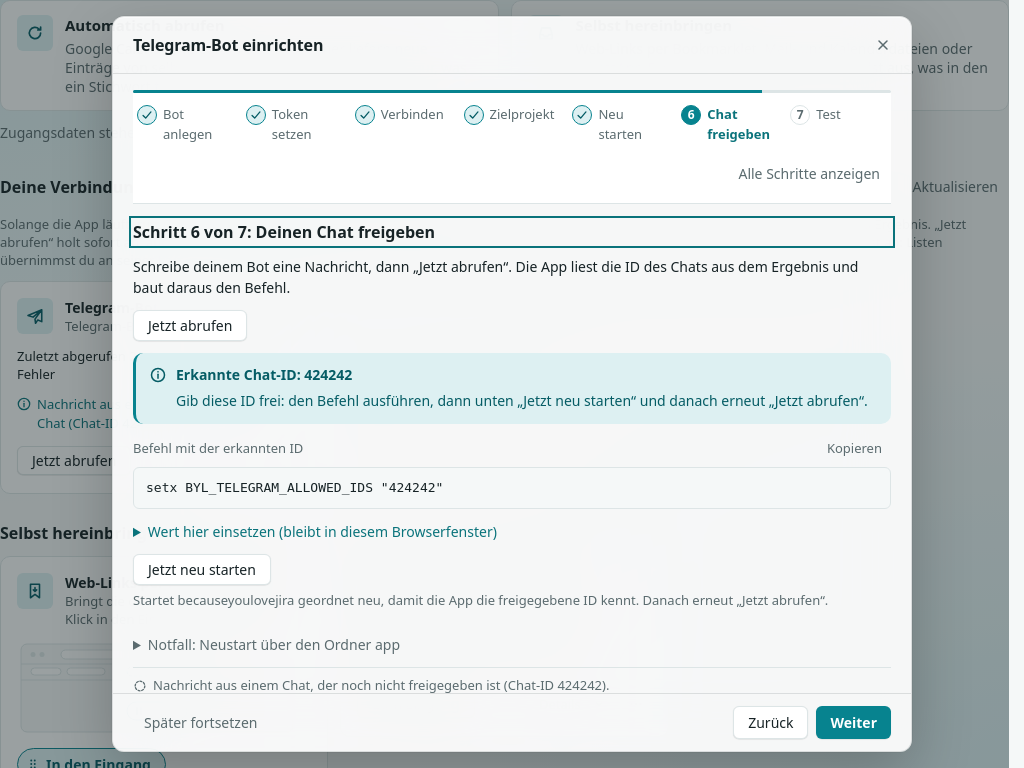
Scenario: Telegram assistant (EH-6) › knows no foreign chat after the next run, through realtime
Expected: the heading "Schritt 6 von 7: Deinen Chat freigeben" is shown, 133,221 -> 435,243
Click the button named "Chat freigeben, aktuell" at (730, 124), box 677,101 -> 782,148
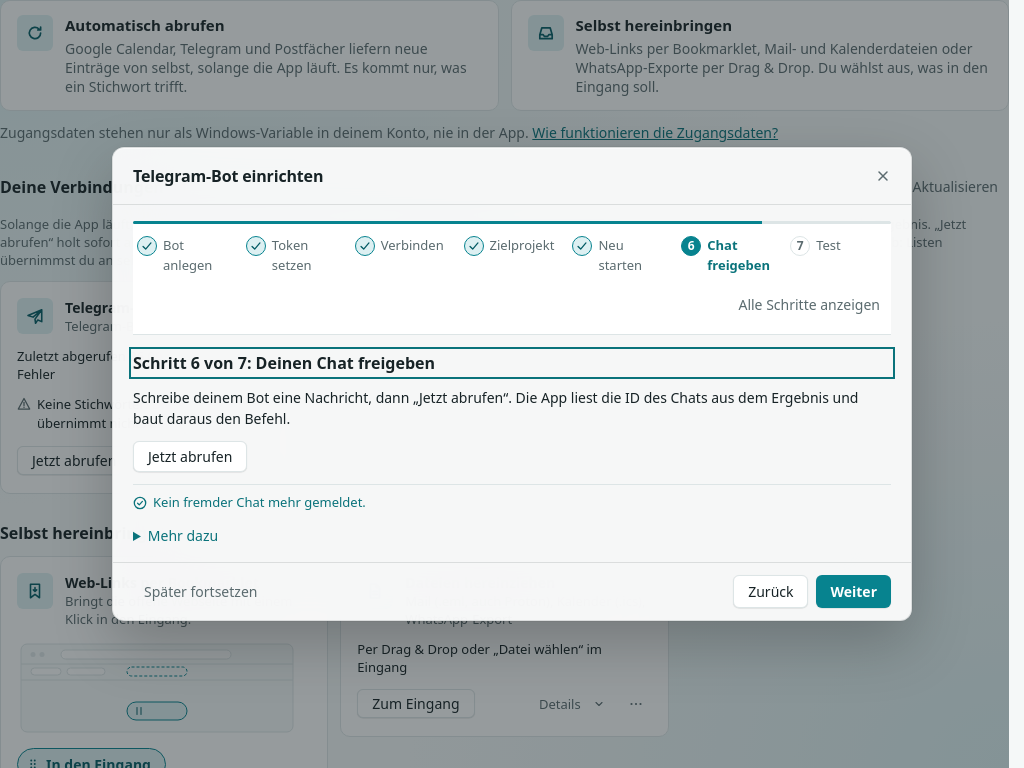
Expected: the button named "Chat freigeben, aktuell" is shown, 677,232 -> 782,279
Expected: the text "Kein fremder Chat mehr gemeldet." is shown, 153,493 -> 366,513
Expected: the heading "Erkannte Chat-ID" is gone
